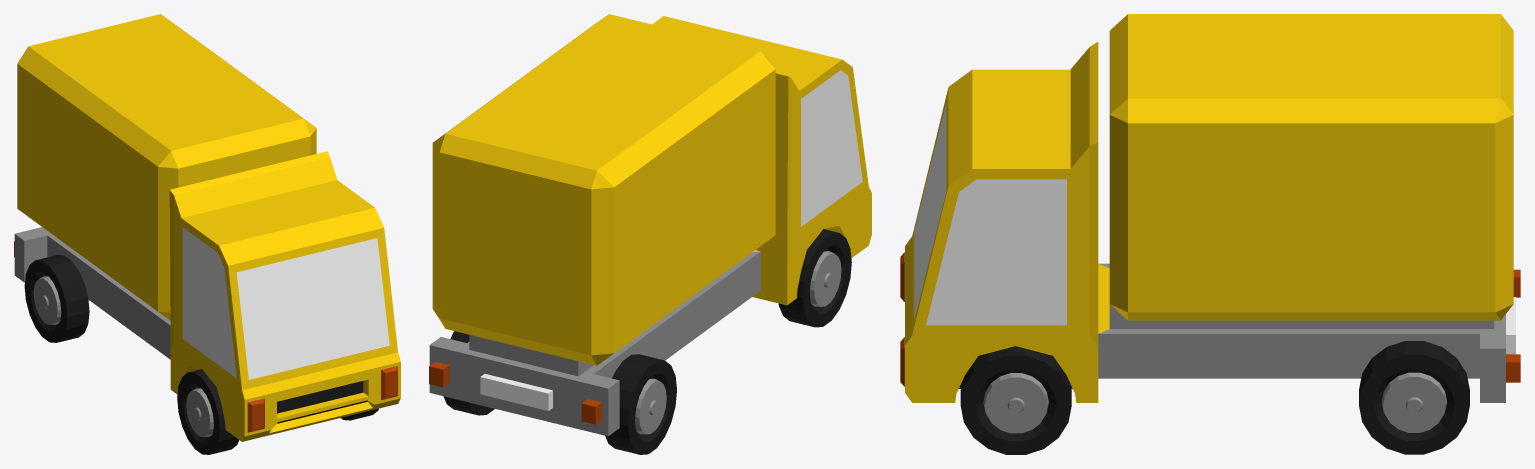
The model's file is YellowCar.FBX.
3 renders of one model, left to right at view 1: azimuth 30°, elevation 25°; view 2: azimuth 150°, elevation 25°; view 3: azimuth 270°, elevation 25°, orthographic. The views are drawn at different scales.
Parts seen in each view (by area): view 1: yellow, Wheels, RightBlinker, LeftBlinker; view 2: yellow, Wheels, RightBlinker, LeftBlinker; view 3: yellow, Wheels, LeftBlinker.
Boxes of the visible parts, <box> form: yellow: <box>14,14,400,441</box>; Wheels: <box>24,255,378,454</box>; RightBlinker: <box>14,241,264,432</box>; LeftBlinker: <box>381,365,397,399</box>; yellow: <box>429,14,871,436</box>; Wheels: <box>443,229,851,454</box>; RightBlinker: <box>581,399,602,424</box>; LeftBlinker: <box>429,361,449,387</box>; yellow: <box>904,14,1515,402</box>; Wheels: <box>960,341,1469,454</box>; LeftBlinker: <box>900,337,1520,386</box>.
Bounding box in the file's own units: 161 × 244 × 396.
2 materials, 1 textured.
